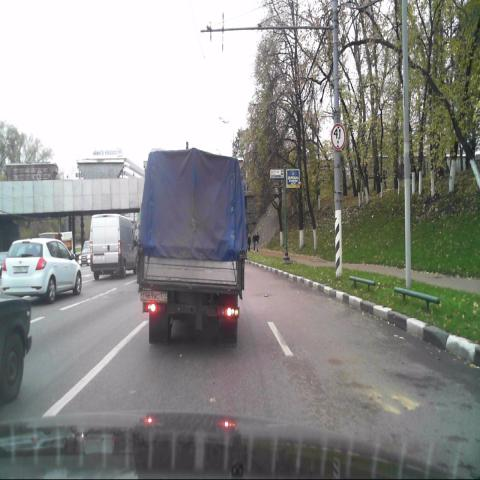3_13: (330, 123, 346, 150)
